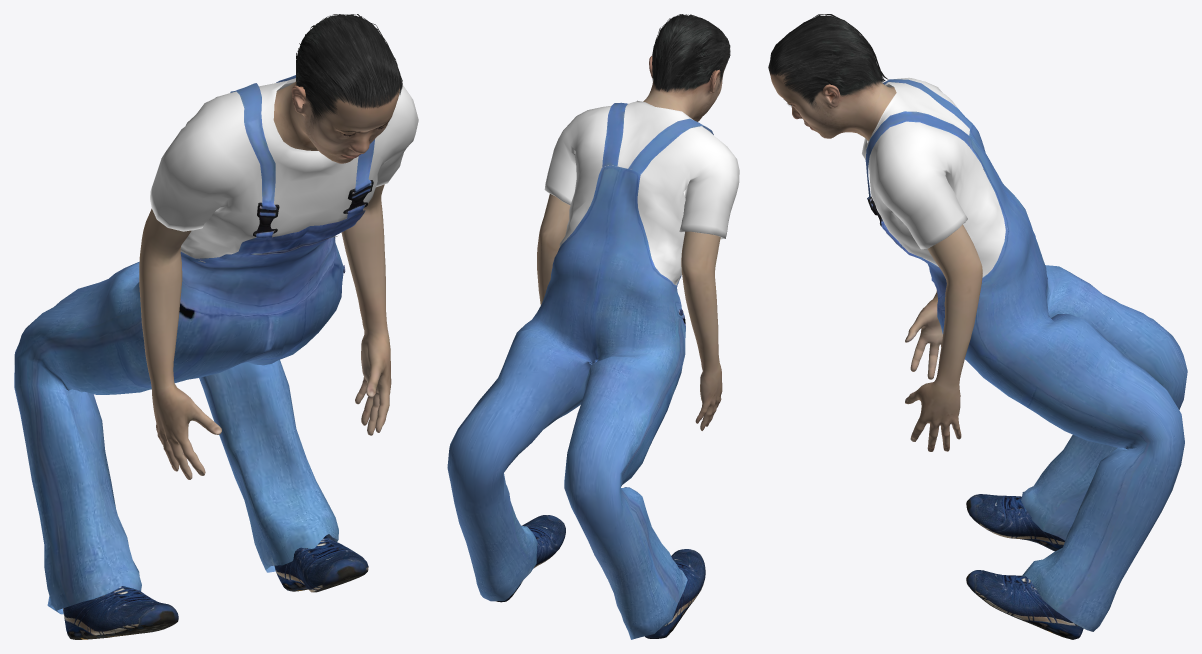
The model's file is uomo-04.glb.
3 renders of one model, left to right at view 1: azimuth 30°, elevation 25°; view 2: azimuth 150°, elevation 25°; view 3: azimuth 270°, elevation 25°, orthographic. The views are drawn at different scales.
Visible parts, largest first — view 1: Human.male_worksuit01, Human, Human.short04, Human.shoes06; view 2: Human.male_worksuit01, Human, Human.short04, Human.shoes06; view 3: Human.male_worksuit01, Human, Human.short04, Human.shoes06.
Boxes of the visible parts, x1,y1,x2,y2 form: Human.male_worksuit01: (14, 75, 418, 614); Human: (139, 81, 399, 479); Human.short04: (296, 14, 402, 124); Human.shoes06: (63, 536, 368, 639); Human.male_worksuit01: (447, 100, 739, 639); Human: (537, 56, 724, 430); Human.short04: (652, 14, 730, 92); Human.shoes06: (496, 515, 705, 638); Human.male_worksuit01: (862, 77, 1187, 631); Human: (770, 72, 982, 451); Human.short04: (768, 14, 888, 108); Human.shoes06: (966, 494, 1083, 639).
Size of the model in its own units: 0.5245 by 1.32 by 0.8716.
12 materials, 12 textured.
